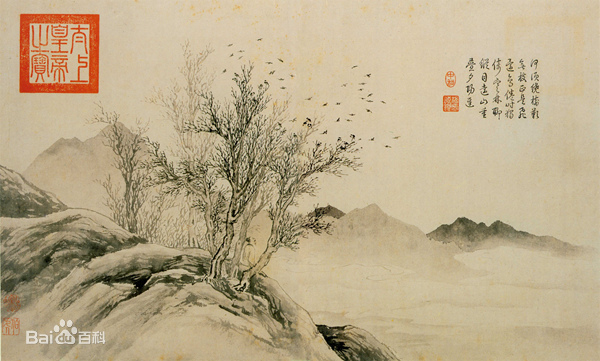mountain: (317, 204, 600, 256), (4, 174, 68, 359), (156, 300, 314, 360), (80, 230, 150, 358), (155, 249, 208, 300), (43, 142, 101, 172), (75, 177, 101, 210), (258, 281, 281, 298)
tree: (107, 117, 143, 225), (180, 139, 211, 245), (223, 141, 247, 277), (147, 146, 179, 244), (179, 57, 211, 131), (239, 77, 263, 141), (273, 173, 292, 253), (251, 145, 270, 207), (306, 150, 358, 172), (271, 139, 296, 171), (254, 251, 272, 270), (291, 221, 317, 231)
